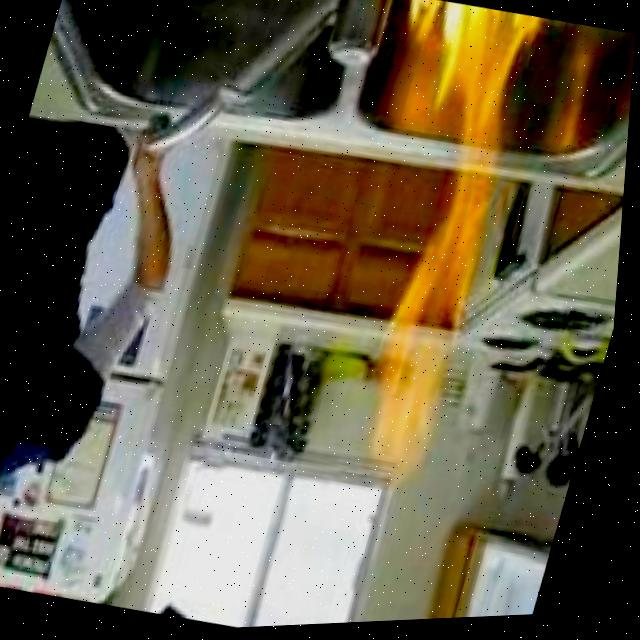Fire: (287, 0, 561, 485)
